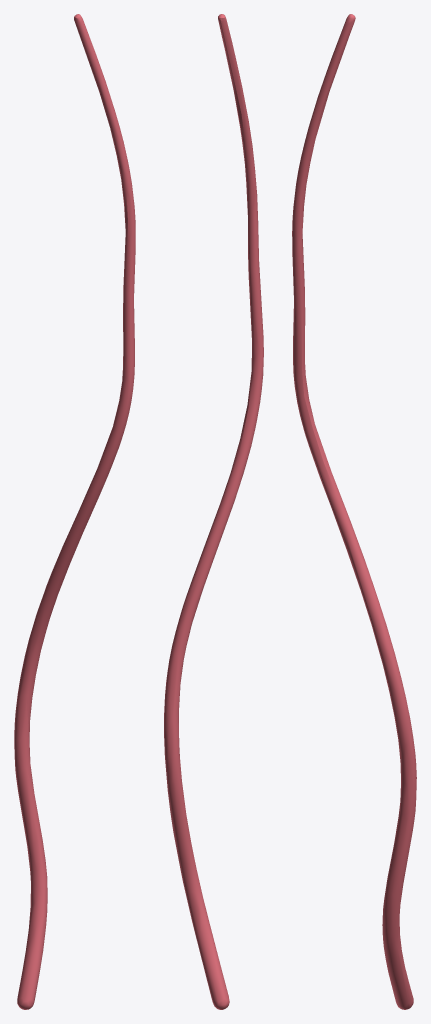
Rendered from fma50895_fj5020.glb.
3 renders of one model, left to right at view 1: azimuth 90°, elevation 25°; view 2: azimuth 150°, elevation 25°; view 3: azimuth 270°, elevation 25°, orthographic. The views are drawn at different scales.
Parts seen in each view (by area): view 1: FMA50895_FJ5020; view 2: FMA50895_FJ5020; view 3: FMA50895_FJ5020.
Part boxes in pixels (x1=…): FMA50895_FJ5020: x1=14, y1=14, x2=135, y2=1009; FMA50895_FJ5020: x1=164, y1=14, x2=263, y2=1009; FMA50895_FJ5020: x1=292, y1=14, x2=416, y2=1009.
Size of the model in its own units: 0.00503 by 0.0733 by 0.00823.
